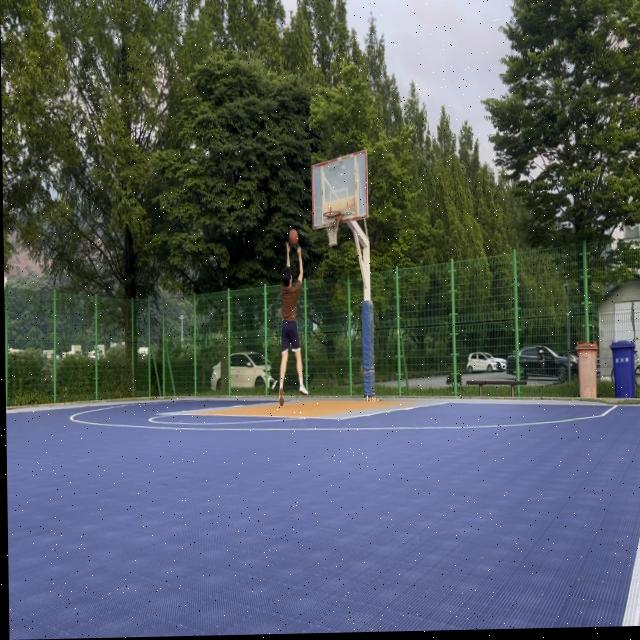basketball: (288, 228, 299, 246)
hoop: (323, 210, 342, 248)
